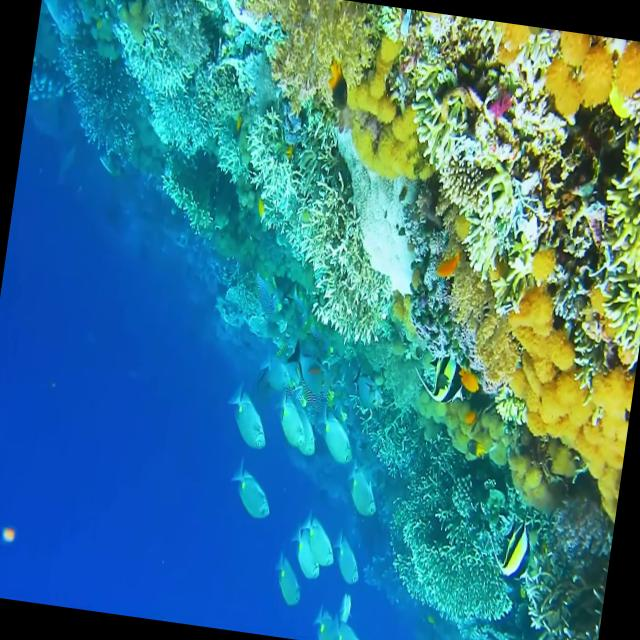fish: (480, 514, 541, 599), (214, 379, 282, 455), (311, 398, 365, 477), (417, 344, 479, 412), (224, 469, 278, 537), (293, 510, 347, 570), (341, 463, 386, 530), (263, 555, 308, 618), (270, 388, 312, 454), (329, 534, 371, 591), (300, 595, 350, 640)
